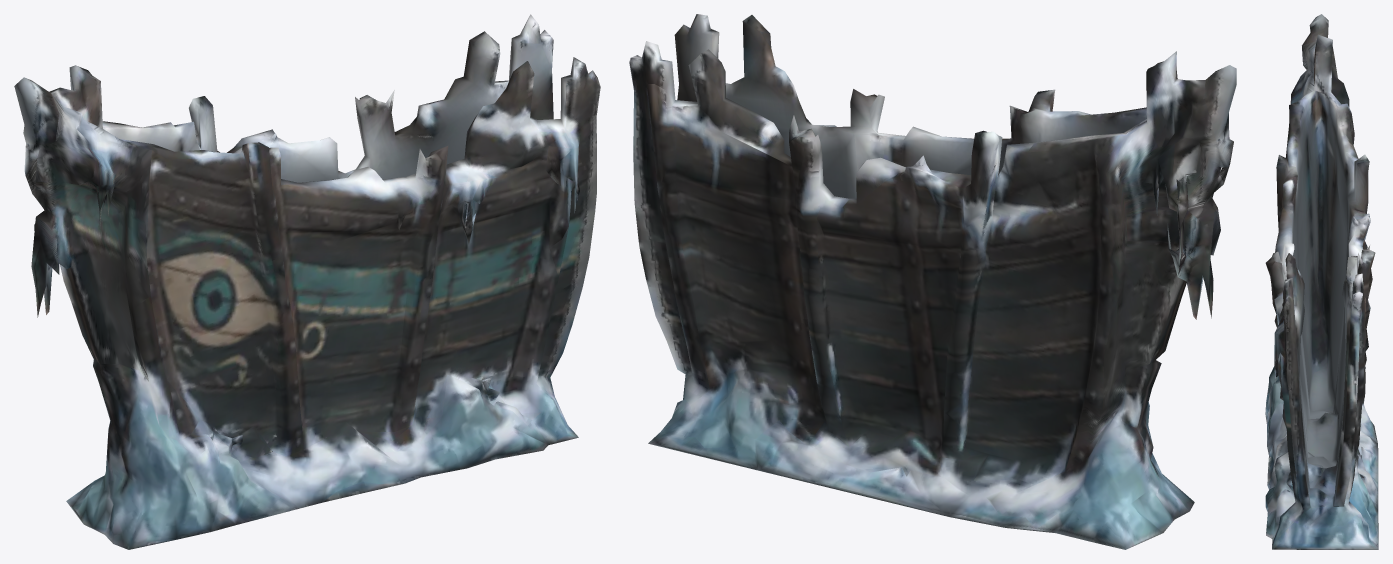
File: SM_Tripo_FrostSeaCoverWall.glb
3 views of the same model, side by side, from view 1: azimuth 30°, elevation 25°; view 2: azimuth 150°, elevation 25°; view 3: azimuth 270°, elevation 25° (orthographic). The views are drawn at different scales.
Visible parts, largest first — view 1: SM_Tripo_FrostSeaCoverWall_LOD0; view 2: SM_Tripo_FrostSeaCoverWall_LOD0; view 3: SM_Tripo_FrostSeaCoverWall_LOD0.
Part boxes in pixels (x1,y1,x2,y2): SM_Tripo_FrostSeaCoverWall_LOD0: (14, 14, 600, 549); SM_Tripo_FrostSeaCoverWall_LOD0: (629, 14, 1236, 549); SM_Tripo_FrostSeaCoverWall_LOD0: (1265, 14, 1378, 549).
Size of the model in its own units: 3.12 by 2.47 by 0.7328.
1 material, 1 textured.
